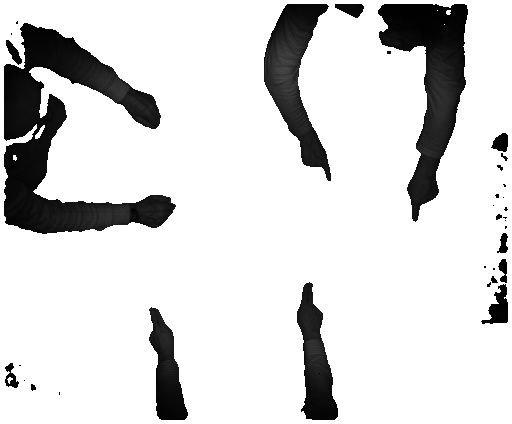fist: (126, 90, 167, 135), (139, 192, 175, 231)
hand: (400, 170, 439, 223), (296, 282, 327, 340), (297, 138, 335, 183), (145, 304, 175, 359)
